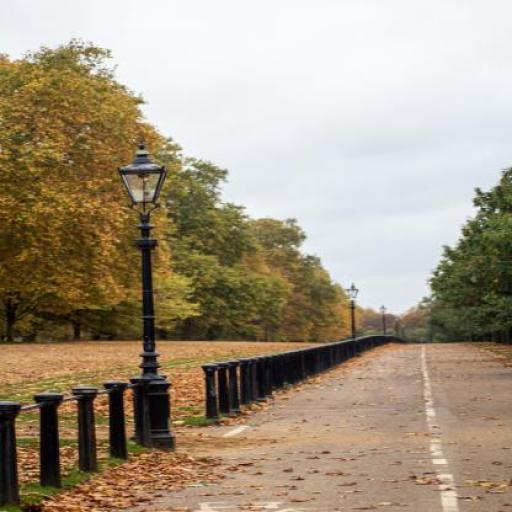street light: (114, 143, 178, 450), (346, 283, 359, 339), (379, 305, 387, 336), (394, 315, 399, 337)
